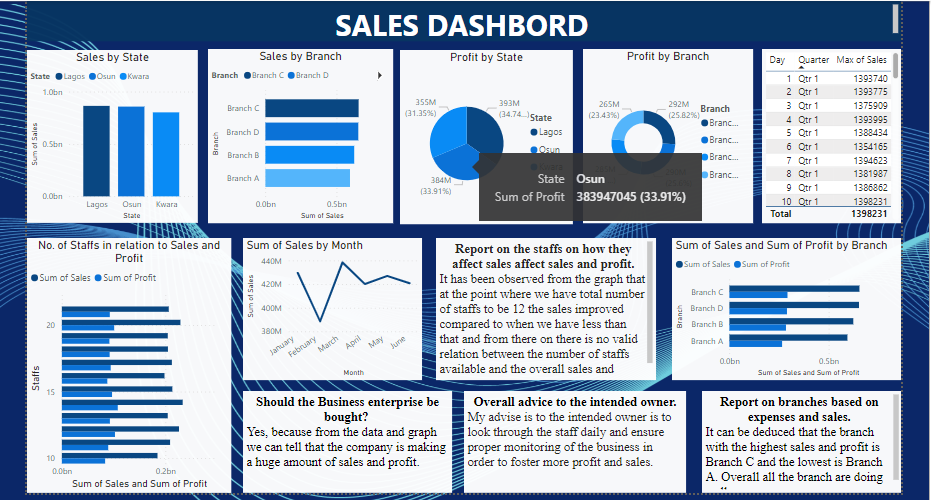

Layout of this report page (visuals, bound fields, positions):
{"tool":"powerbi","page":{"name":"Page 1","canvas":[1280,720],"ordinal":0},"visuals":[{"type":"textbox","box":[0,0,1280.5,58.5],"z":0},{"type":"columnChart","title":"Sales by State","fields":{"Category":["Business_data.State"],"Y":["Sum(Business_data.Sales)"],"Series":["Business_data.State"]},"box":[0,71.7,250.2,253.2],"z":1000},{"type":"barChart","title":"Sales by Branch","fields":{"Y":["Sum(Business_data.Sales)"],"Series":["Business_data.Branch"],"Category":["Business_data.Branch"]},"box":[264.9,70.2,270.7,254.6],"z":2000},{"type":"pieChart","title":"Profit by State","fields":{"Category":["Business_data.State"],"Y":["Sum(Business_data.Profit)"],"Series":["Business_data.State"]},"box":[545.9,71.7,253.2,254.6],"z":3000},{"type":"donutChart","title":"Profit by Branch","fields":{"Category":["Business_data.Branch"],"Y":["Sum(Business_data.Profit)"],"Series":["Business_data.Branch"]},"box":[813.7,70.2,248.8,254.6],"z":4000},{"type":"clusteredBarChart","title":"No. of Staffs in relation to Sales and Profit","fields":{"Category":["Business_data.Staffs"],"Y":["Sum(Business_data.Sales)","Sum(Business_data.Profit)"]},"box":[0,346.8,298.5,373.2],"z":5000},{"type":"tableEx","fields":{"Values":["Business_data.Date.Variation.Date Hierarchy.Day","Business_data.Date.Variation.Date Hierarchy.Quarter","Max(Business_data.Sales)"]},"box":[1075.6,70.2,204.9,254.6],"z":6000},{"type":"lineChart","fields":{"Category":["Business_data.Date.Variation.Date Hierarchy.Month"],"Y":["Sum(Business_data.Sales)"]},"box":[316.1,346.8,262,207.8],"z":7000},{"type":"textbox","box":[598.5,346.8,322,207.8],"z":8000},{"type":"textbox","box":[316.1,570.7,305.9,149.3],"z":8001},{"type":"textbox","box":[639.5,570.7,324.9,149.3],"z":8002},{"type":"clusteredBarChart","fields":{"Category":["Business_data.Branch"],"Y":["Sum(Business_data.Sales)","Sum(Business_data.Profit)"]},"box":[943.9,346.8,336.6,207.8],"z":8003},{"type":"textbox","box":[987.8,570.7,292.7,149.3],"z":8004}]}

Visuals, with their boxes in screenshot pixels (x1, y1, x2, y2):
textbox: <box>24,0,900,38</box>
"Sales by State" columnChart: <box>24,47,195,220</box>
"Sales by Branch" barChart: <box>205,46,391,220</box>
"Profit by State" pieChart: <box>398,47,571,221</box>
"Profit by Branch" donutChart: <box>581,46,751,220</box>
"No. of Staffs in relation to Sales and Profit" clusteredBarChart: <box>24,235,228,490</box>
tableEx - Business_data.Date.Variation.Date Hierarchy.Day x Business_data.Date.Variation.Date Hierarchy.Quarter: <box>760,46,900,220</box>
lineChart - Business_data.Date.Variation.Date Hierarchy.Month x Sum(Business_data.Sales): <box>240,235,420,377</box>
textbox: <box>434,235,654,377</box>
textbox: <box>240,388,450,490</box>
textbox: <box>462,388,684,490</box>
clusteredBarChart - Business_data.Branch x Sum(Business_data.Sales): <box>670,235,900,377</box>
textbox: <box>700,388,900,490</box>
